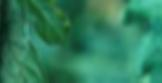Tomato leaf late blight: (0, 0, 69, 83)
